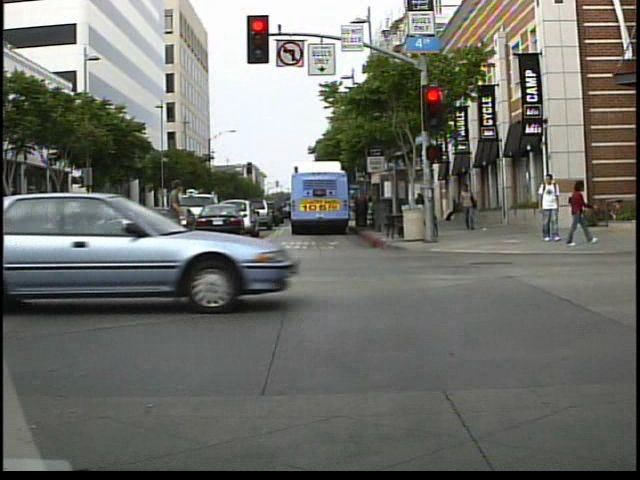person: (563, 176, 595, 247)
